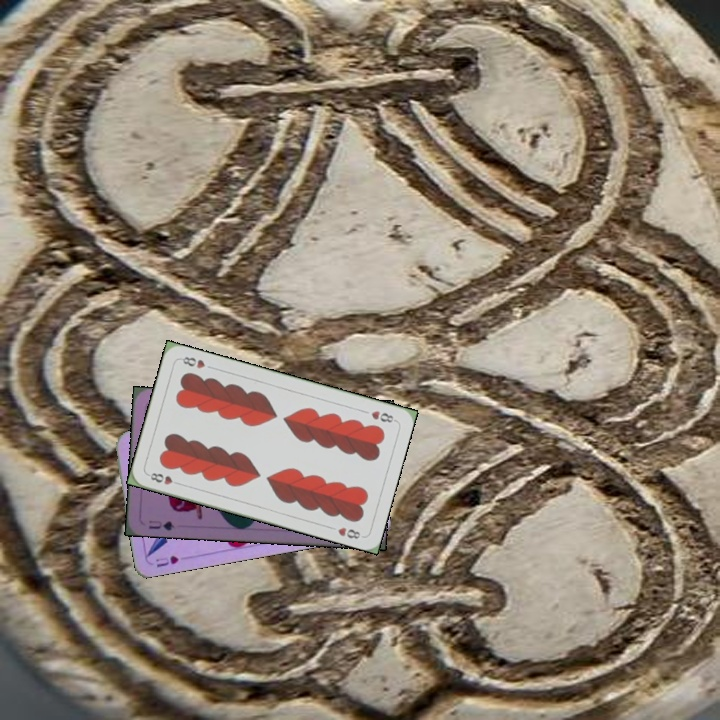GU: (145, 516, 177, 533)
H8: (144, 468, 184, 488), (367, 406, 398, 425)
HU: (151, 551, 182, 570)
